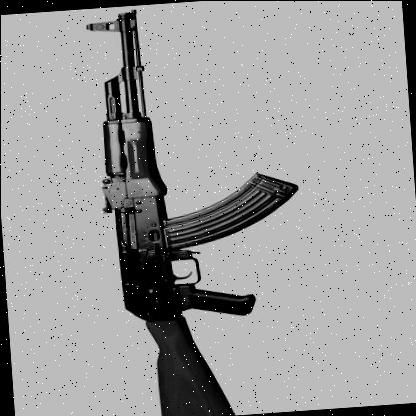rifle: (56, 8, 319, 416)
